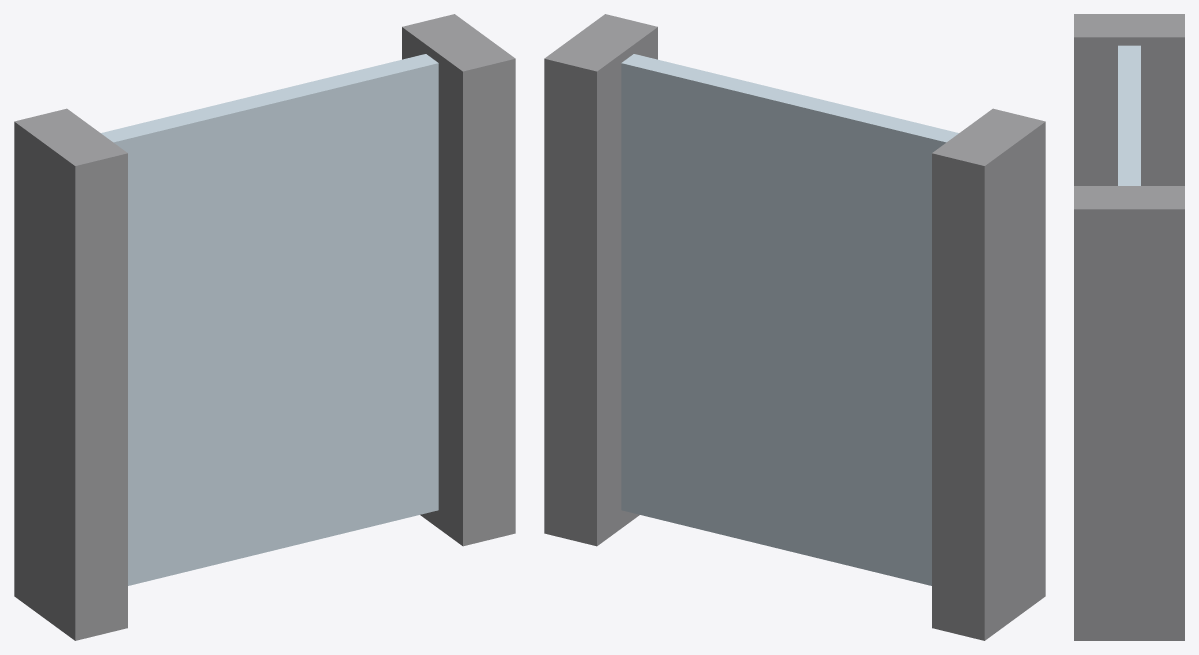
Rendered from vge_vac_barrier.obj.
3 views of the same model, side by side, from view 1: azimuth 30°, elevation 25°; view 2: azimuth 150°, elevation 25°; view 3: azimuth 270°, elevation 25° (orthographic). The views are drawn at different scales.
Visible parts, largest first — view 1: vge_vac_barrier_2, vge_vac_barrier_0, vge_vac_barrier_1; view 2: vge_vac_barrier_2, vge_vac_barrier_0, vge_vac_barrier_1; view 3: vge_vac_barrier_1, vge_vac_barrier_0, vge_vac_barrier_2.
Boxes of the visible parts, x1=… form: vge_vac_barrier_2: x1=101, y1=54, x2=438, y2=585; vge_vac_barrier_0: x1=14, y1=108, x2=127, y2=640; vge_vac_barrier_1: x1=402, y1=14, x2=515, y2=546; vge_vac_barrier_2: x1=621, y1=54, x2=958, y2=585; vge_vac_barrier_0: x1=932, y1=108, x2=1045, y2=640; vge_vac_barrier_1: x1=544, y1=14, x2=657, y2=546; vge_vac_barrier_1: x1=1074, y1=186, x2=1184, y2=640; vge_vac_barrier_0: x1=1074, y1=14, x2=1184, y2=185; vge_vac_barrier_2: x1=1118, y1=45, x2=1140, y2=185.
Bounding box in the file's own units: 1 × 1.03 × 0.24.
